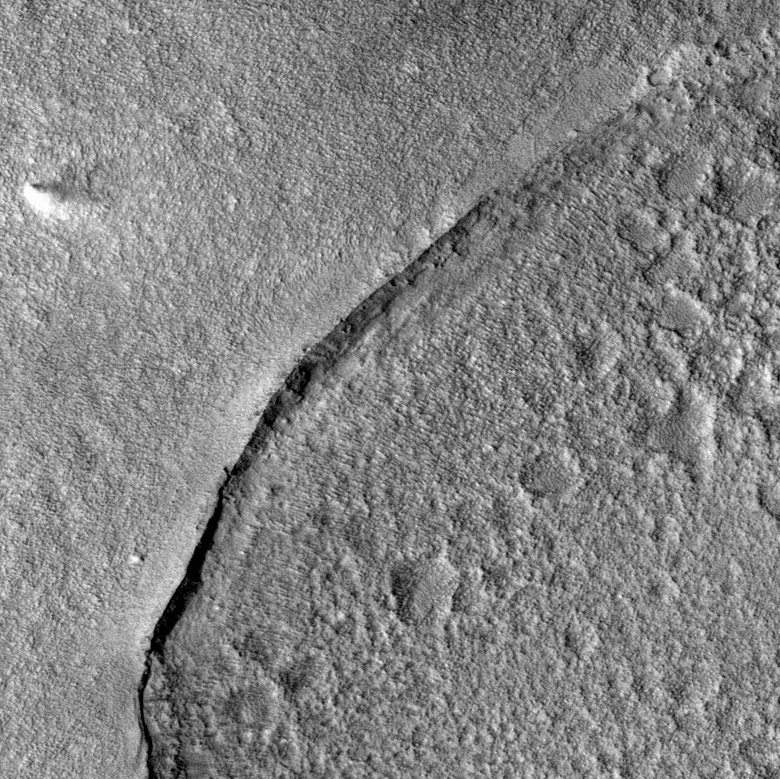dust_devil: (19, 159, 118, 220)
